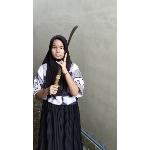Golok: (49, 24, 82, 92)
